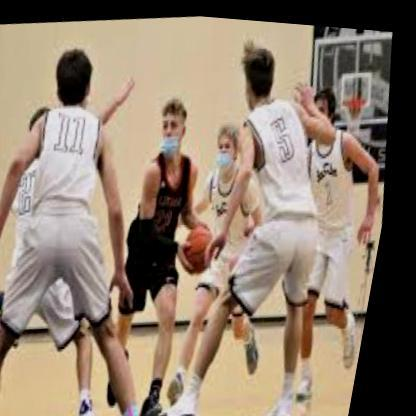basketball: (186, 219, 231, 274)
rim: (341, 87, 372, 108)
